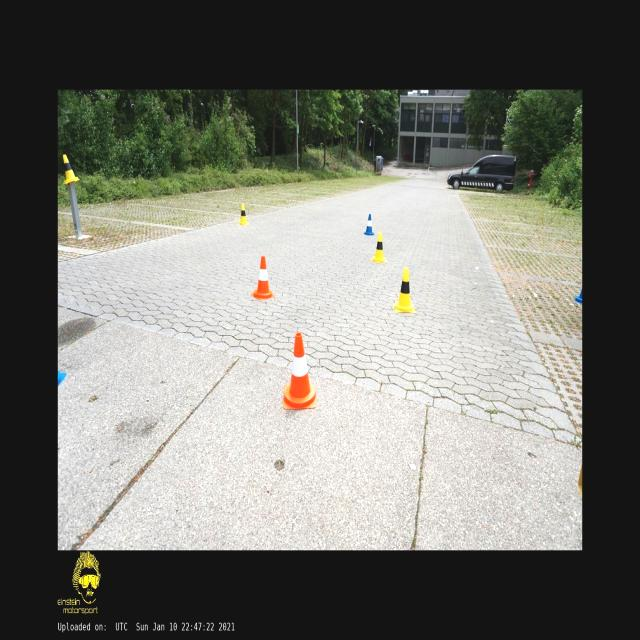blue_cone: (364, 214, 374, 235)
orange_cone: (284, 332, 316, 410), (251, 256, 275, 300)
yellow_cone: (394, 268, 416, 312), (62, 154, 80, 184), (371, 232, 387, 262), (238, 204, 249, 225)
